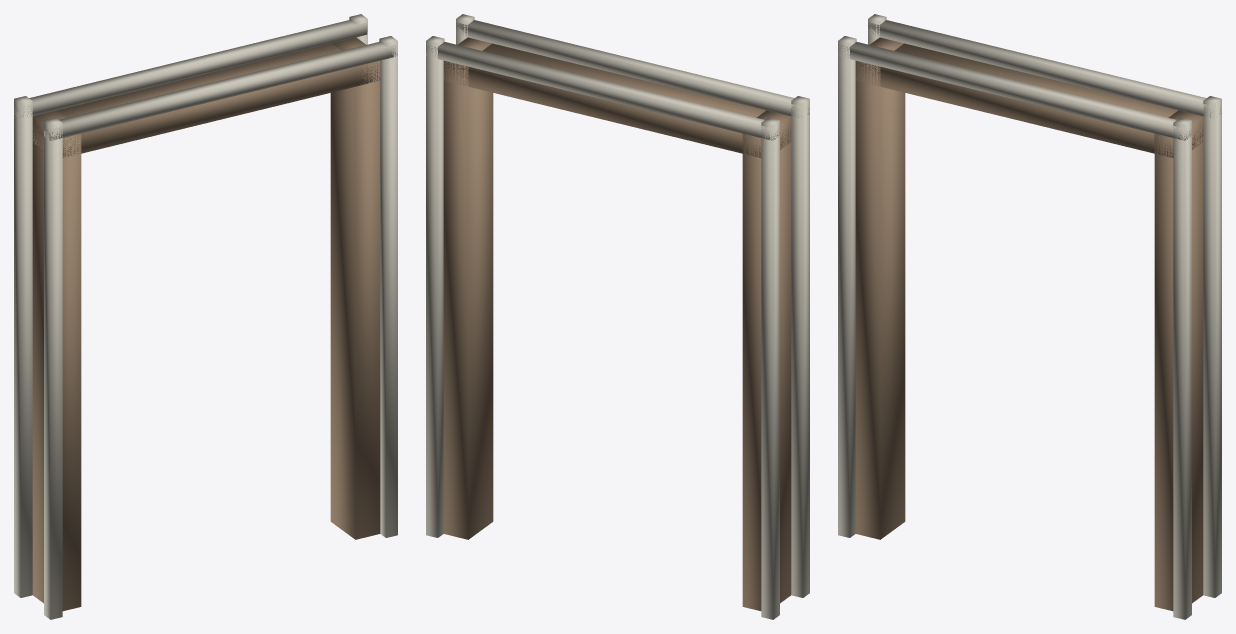
Rendered from doorway_painted_trim_w152_h240_d24.glb.
3 views of the same model, side by side, from view 1: azimuth 30°, elevation 25°; view 2: azimuth 150°, elevation 25°; view 3: azimuth 330°, elevation 25° (orthographic).
Parts seen in each view (by area): view 1: world; view 2: world; view 3: world.
Boxes of the visible parts, bbox=[...] form: world: bbox=[14, 14, 397, 619]; world: bbox=[426, 14, 809, 619]; world: bbox=[838, 14, 1221, 619].
Bounding box in the file's own units: 1.92 × 2.62 × 0.3516.
